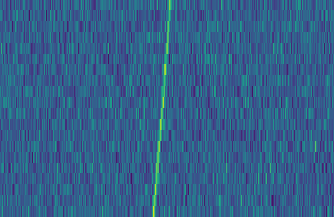signal: (149, 0, 174, 217)
